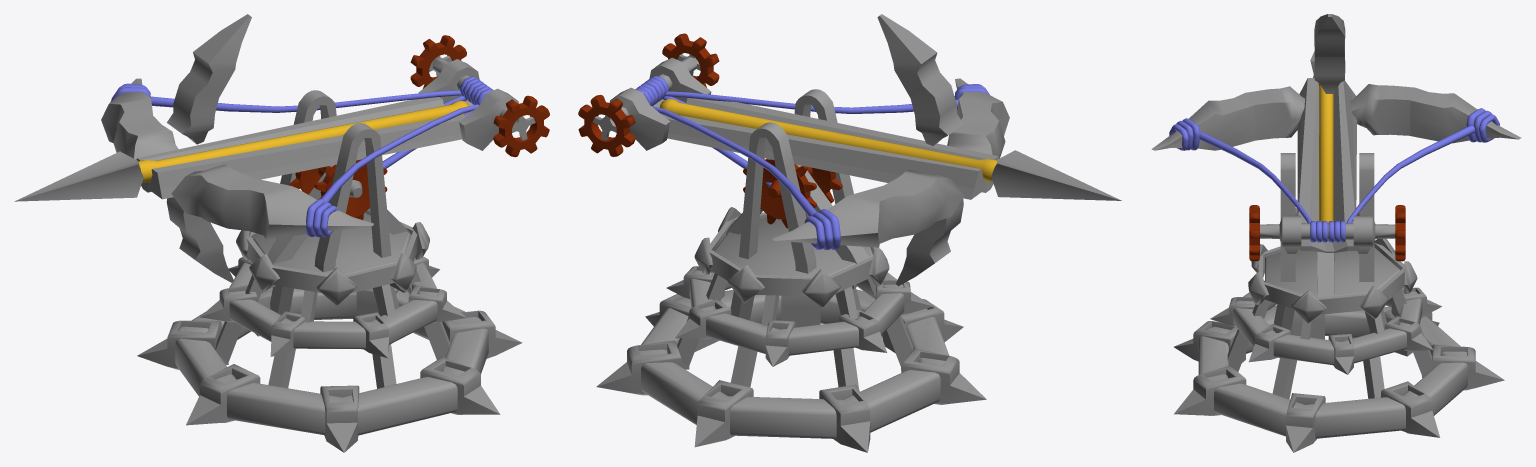
The model's file is Ballista.fbx.
3 views of the same model, side by side, from view 1: azimuth 30°, elevation 25°; view 2: azimuth 150°, elevation 25°; view 3: azimuth 270°, elevation 25° (orthographic). The views are drawn at different scales.
Parts seen in each view (by area): view 1: Plane.010, Plane.011, Plane.001; view 2: Plane.010, Plane.011, Plane.001; view 3: Plane.010, Plane.011, Plane.001.
Boxes of the visible parts, bbox=[...] form: Plane.010: bbox=[137, 159, 522, 452]; Plane.011: bbox=[101, 14, 549, 282]; Plane.001: bbox=[14, 101, 469, 201]; Plane.010: bbox=[596, 158, 986, 452]; Plane.011: bbox=[578, 14, 1009, 286]; Plane.001: bbox=[659, 99, 1121, 200]; Plane.010: bbox=[1174, 208, 1504, 452]; Plane.011: bbox=[1151, 14, 1521, 281]; Plane.001: bbox=[1310, 51, 1333, 240].
Bounding box in the file's own units: 345 × 255 × 255.
